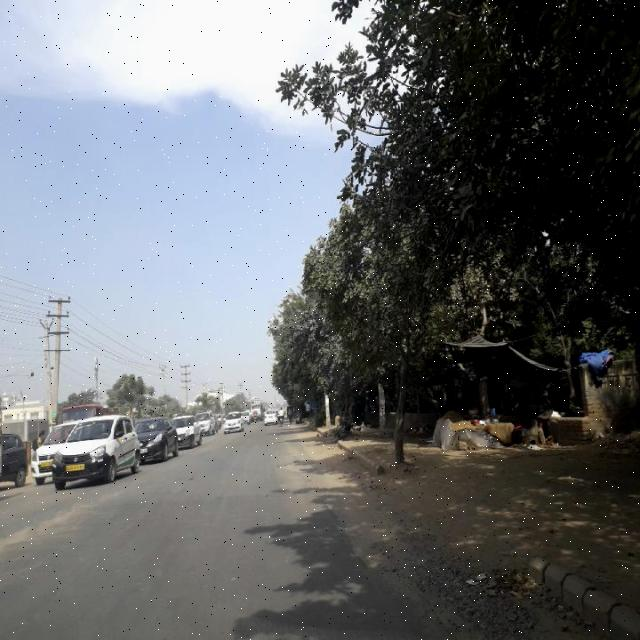D40: (275, 455, 311, 481)
